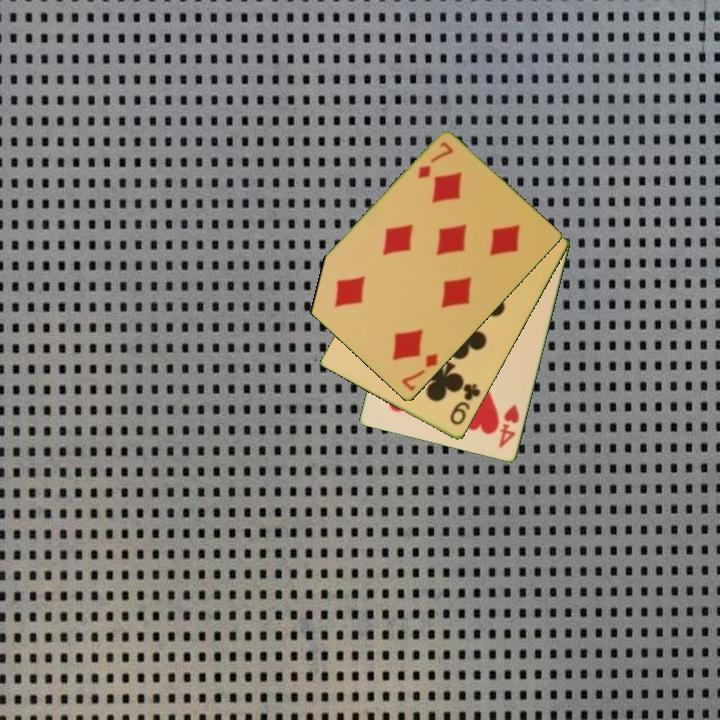4h: (495, 400, 522, 451)
7d: (398, 350, 441, 394), (414, 138, 456, 182)
9c: (446, 380, 484, 429)
